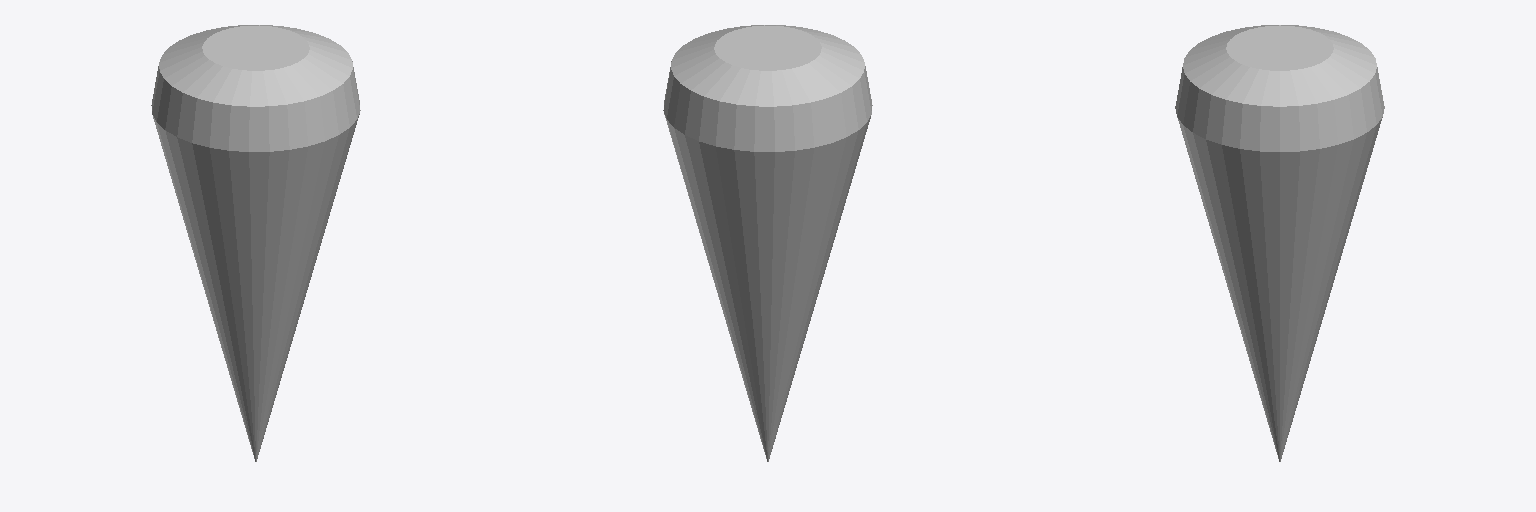
The model's file is waypoint.obj.
The picture shows the model from 3 angles: view 1: azimuth 30°, elevation 25°; view 2: azimuth 150°, elevation 25°; view 3: azimuth 270°, elevation 25°; orthographic projection.
Visible parts, largest first — view 1: Cylinder; view 2: Cylinder; view 3: Cylinder.
Boxes of the visible parts, box(x1,y1,x2,y2) form: Cylinder: box(151, 25, 360, 461); Cylinder: box(663, 25, 872, 461); Cylinder: box(1175, 25, 1384, 461).
Bounding box in the file's own units: 0.9601 × 2.1 × 0.9601.